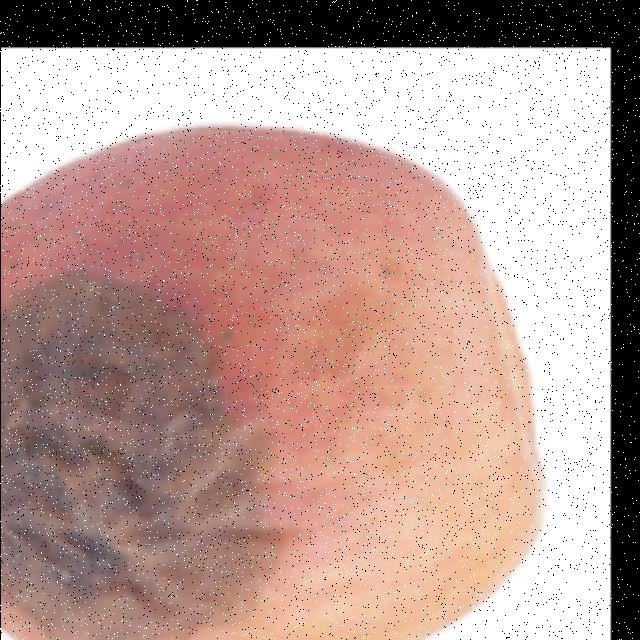Apel Tidak Segar: (0, 120, 552, 640)
